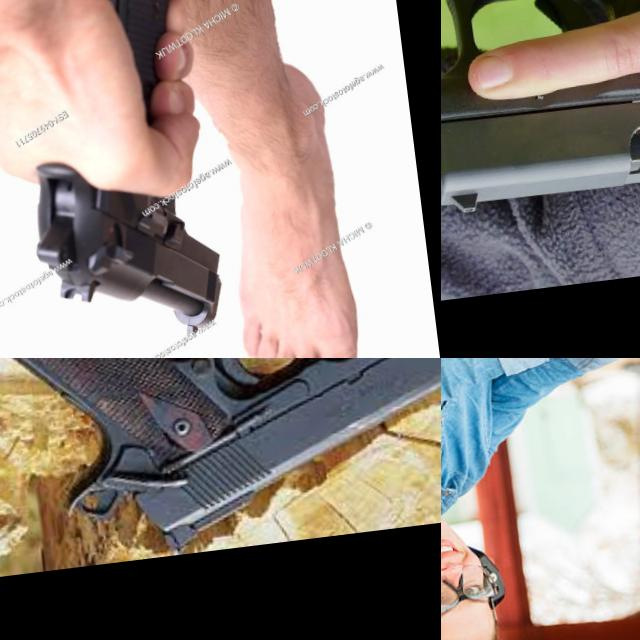handgun: (0, 358, 441, 578), (21, 136, 234, 358), (441, 0, 640, 231)
